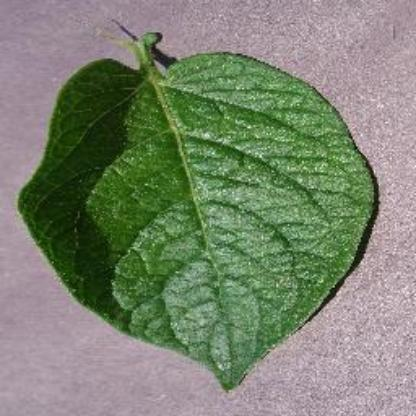Healthy-plant: (15, 16, 384, 390)
